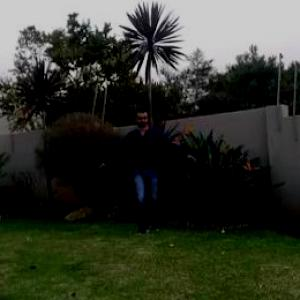land: (91, 100, 202, 241)
